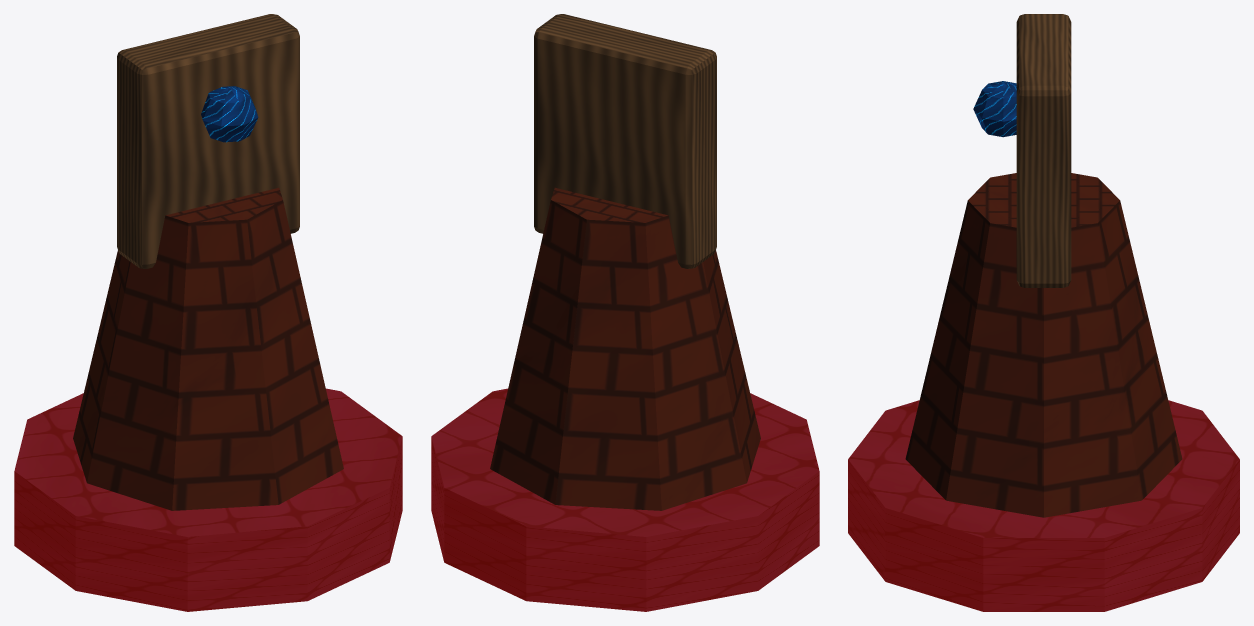
File: SM_FC_LorePedestal.glb
3 renders of one model, left to right at view 1: azimuth 30°, elevation 25°; view 2: azimuth 150°, elevation 25°; view 3: azimuth 270°, elevation 25°, orthographic.
Parts seen in each view (by area): view 1: SM_FC_LorePedestal; view 2: SM_FC_LorePedestal; view 3: SM_FC_LorePedestal.
Boxes of the visible parts, <box> form: SM_FC_LorePedestal: <box>14,14,402,611</box>; SM_FC_LorePedestal: <box>431,14,819,611</box>; SM_FC_LorePedestal: <box>848,14,1239,611</box>.
Bounding box in the file's own units: 1.37 × 1.96 × 1.44.
4 materials, 4 textured.
